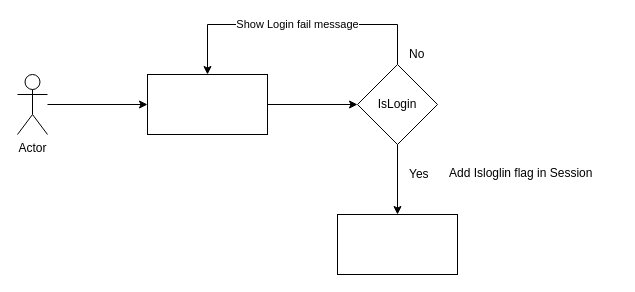
The diagram is 635 pixels wide and 292 high, and some of its shapes have lost their labels. The centre of each missing label's shape, as x and y in pixels:
Login: point 207,104
MemberInfo (check IsLogin Session Status): point 397,244
